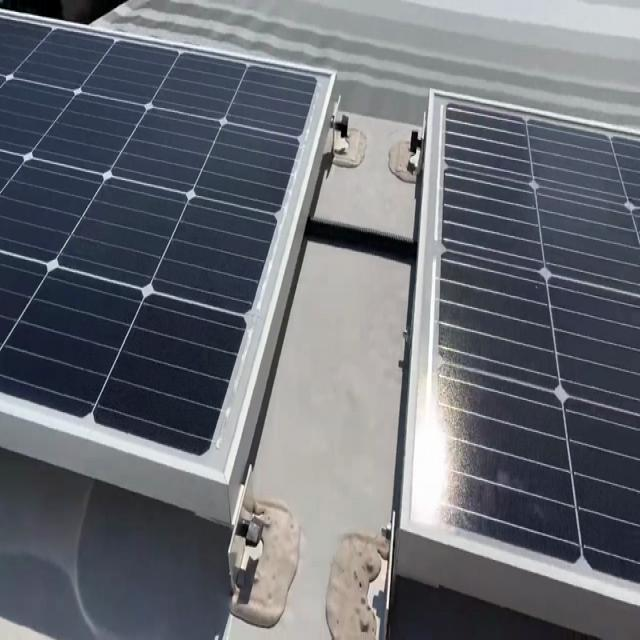Normal Solar Panel: (0, 4, 333, 489), (408, 87, 640, 604)
